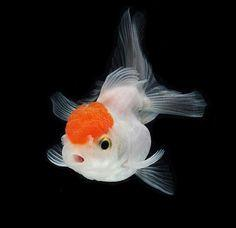goldfish: (38, 45, 219, 201)
